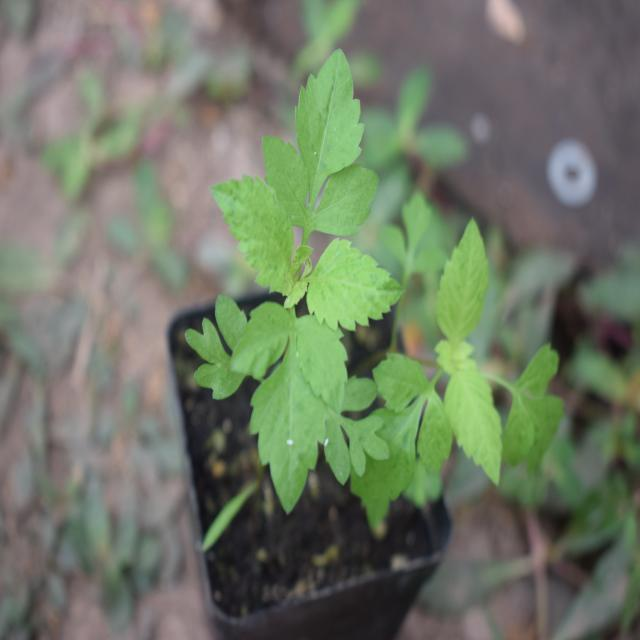Bidens pilosa: (185, 20, 397, 528), (389, 190, 566, 544)
